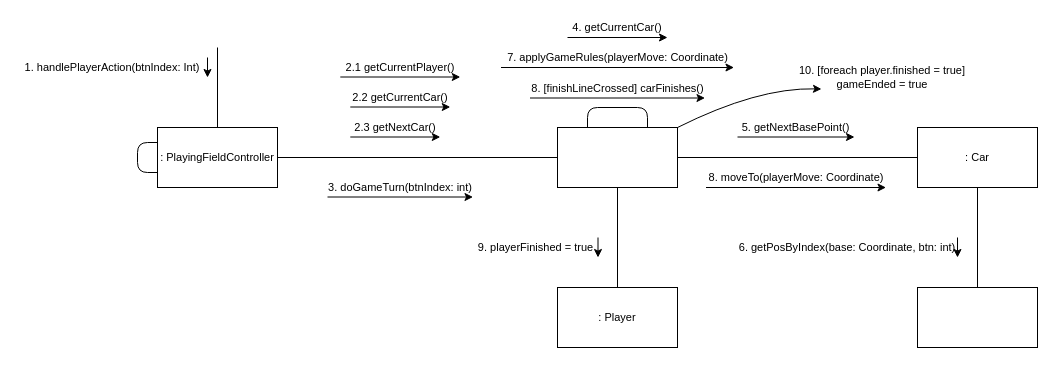
Some shapes in this 1055 by 365 pixel diagram are drawn without their labels. The centre of each missing label's shape, as x and y in pixels:
": GameEngine" belongs at (617,157).
": PossibleTurns" belongs at (977,317).
